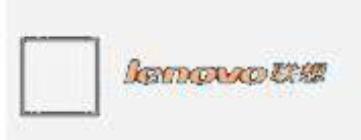CheckBox: (1, 1, 360, 139)
